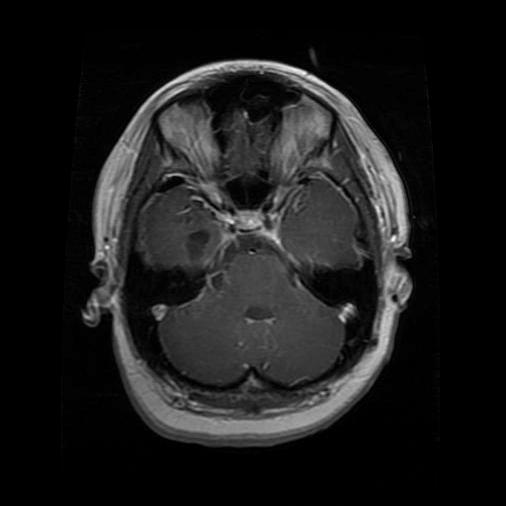Tumour-Glioma: (171, 228, 230, 268)
